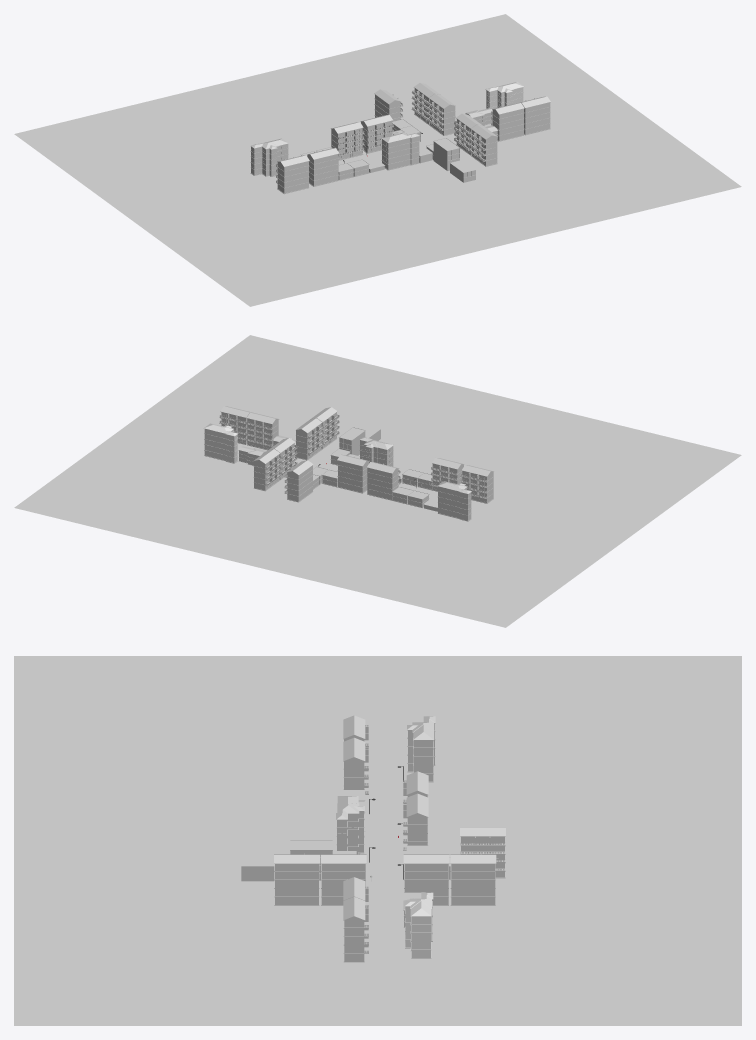
File: city.fbx
3 views of the same model, one above another, from view 1: azimuth 30°, elevation 25°; view 2: azimuth 150°, elevation 25°; view 3: azimuth 270°, elevation 25° (orthographic). The views are drawn at different scales.
Parts seen in each view (by area): view 1: Plane, building_003.001, building_003, building_004.003, building_004.008, building_004, building_004.002, building_004.006, building_004.004, building_004.009, building_004.001, building_003.002 (+4 smaller); view 2: Plane, building_003.002, building_003, building_004, building_004.001, building_004.008, building_004.003, building_004.010, building_004.005, building_004.007, building_003.001, building_004.002 (+4 smaller); view 3: Plane, building_004.005, building_004.006, building_004.004, building_004.007, building_003.002, building_004.009, building_003, building_004.010, building_003.001, building_004.002, building_004.001 (+4 smaller).
Part boxes in pixels (x1,y1,x2,y2): Plane: [14, 14, 741, 306]; building_003.001: [381, 132, 419, 170]; building_003: [250, 138, 288, 176]; building_004.003: [276, 155, 309, 193]; building_004.008: [491, 103, 524, 141]; building_004: [331, 122, 364, 160]; building_004.002: [307, 148, 339, 186]; building_004.006: [469, 124, 497, 166]; building_004.004: [427, 93, 455, 135]; building_004.009: [519, 96, 550, 135]; building_004.001: [360, 115, 393, 153]; building_003.002: [485, 82, 523, 109]; Plane: [14, 335, 741, 627]; building_003.002: [204, 423, 238, 463]; building_003: [437, 481, 471, 521]; building_004: [366, 462, 400, 500]; building_004.001: [337, 454, 369, 493]; building_004.008: [245, 412, 279, 450]; building_004.003: [460, 465, 493, 503]; building_004.010: [284, 460, 313, 502]; building_004.005: [253, 449, 282, 491]; building_004.007: [295, 418, 324, 460]; building_003.001: [359, 437, 393, 466]; building_004.002: [431, 457, 464, 491]; Plane: [14, 656, 741, 1025]; building_004.005: [450, 853, 496, 905]; building_004.006: [274, 853, 319, 905]; building_004.004: [403, 853, 449, 905]; building_004.007: [320, 853, 366, 905]; building_003.002: [404, 892, 433, 958]; building_004.009: [343, 897, 368, 962]; building_003: [407, 716, 435, 782]; building_004.010: [460, 827, 505, 878]; building_003.001: [336, 796, 364, 854]; building_004.002: [343, 737, 368, 794]; building_004.001: [403, 793, 428, 850].
Bounding box in the file's own units: 20641 × 1234 × 17165.
